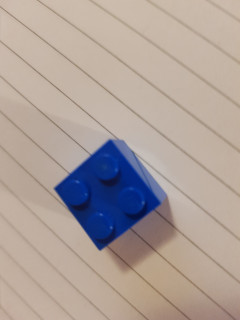2x2 blue: (53, 139, 168, 252)
